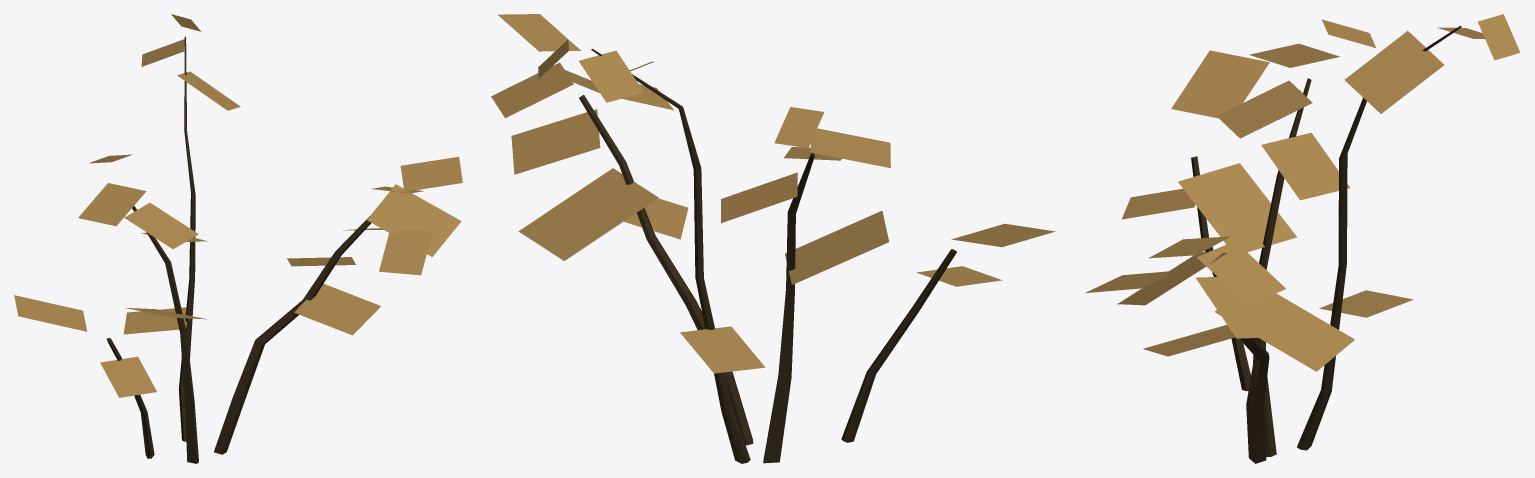
Rendered from Bush small LOD 1.fbx.
3 renders of one model, left to right at view 1: azimuth 30°, elevation 25°; view 2: azimuth 150°, elevation 25°; view 3: azimuth 270°, elevation 25°, orthographic. The views are drawn at different scales.
Visible parts, largest first — view 1: Bush_small_LOD_1; view 2: Bush_small_LOD_1; view 3: Bush_small_LOD_1.
Part boxes in pixels (box(x1,y1,x2,y2)): Bush_small_LOD_1: box(14, 14, 462, 463); Bush_small_LOD_1: box(491, 14, 1055, 463); Bush_small_LOD_1: box(1085, 14, 1520, 463).
Size of the model in its own units: 3.19 by 2.56 by 2.09.
